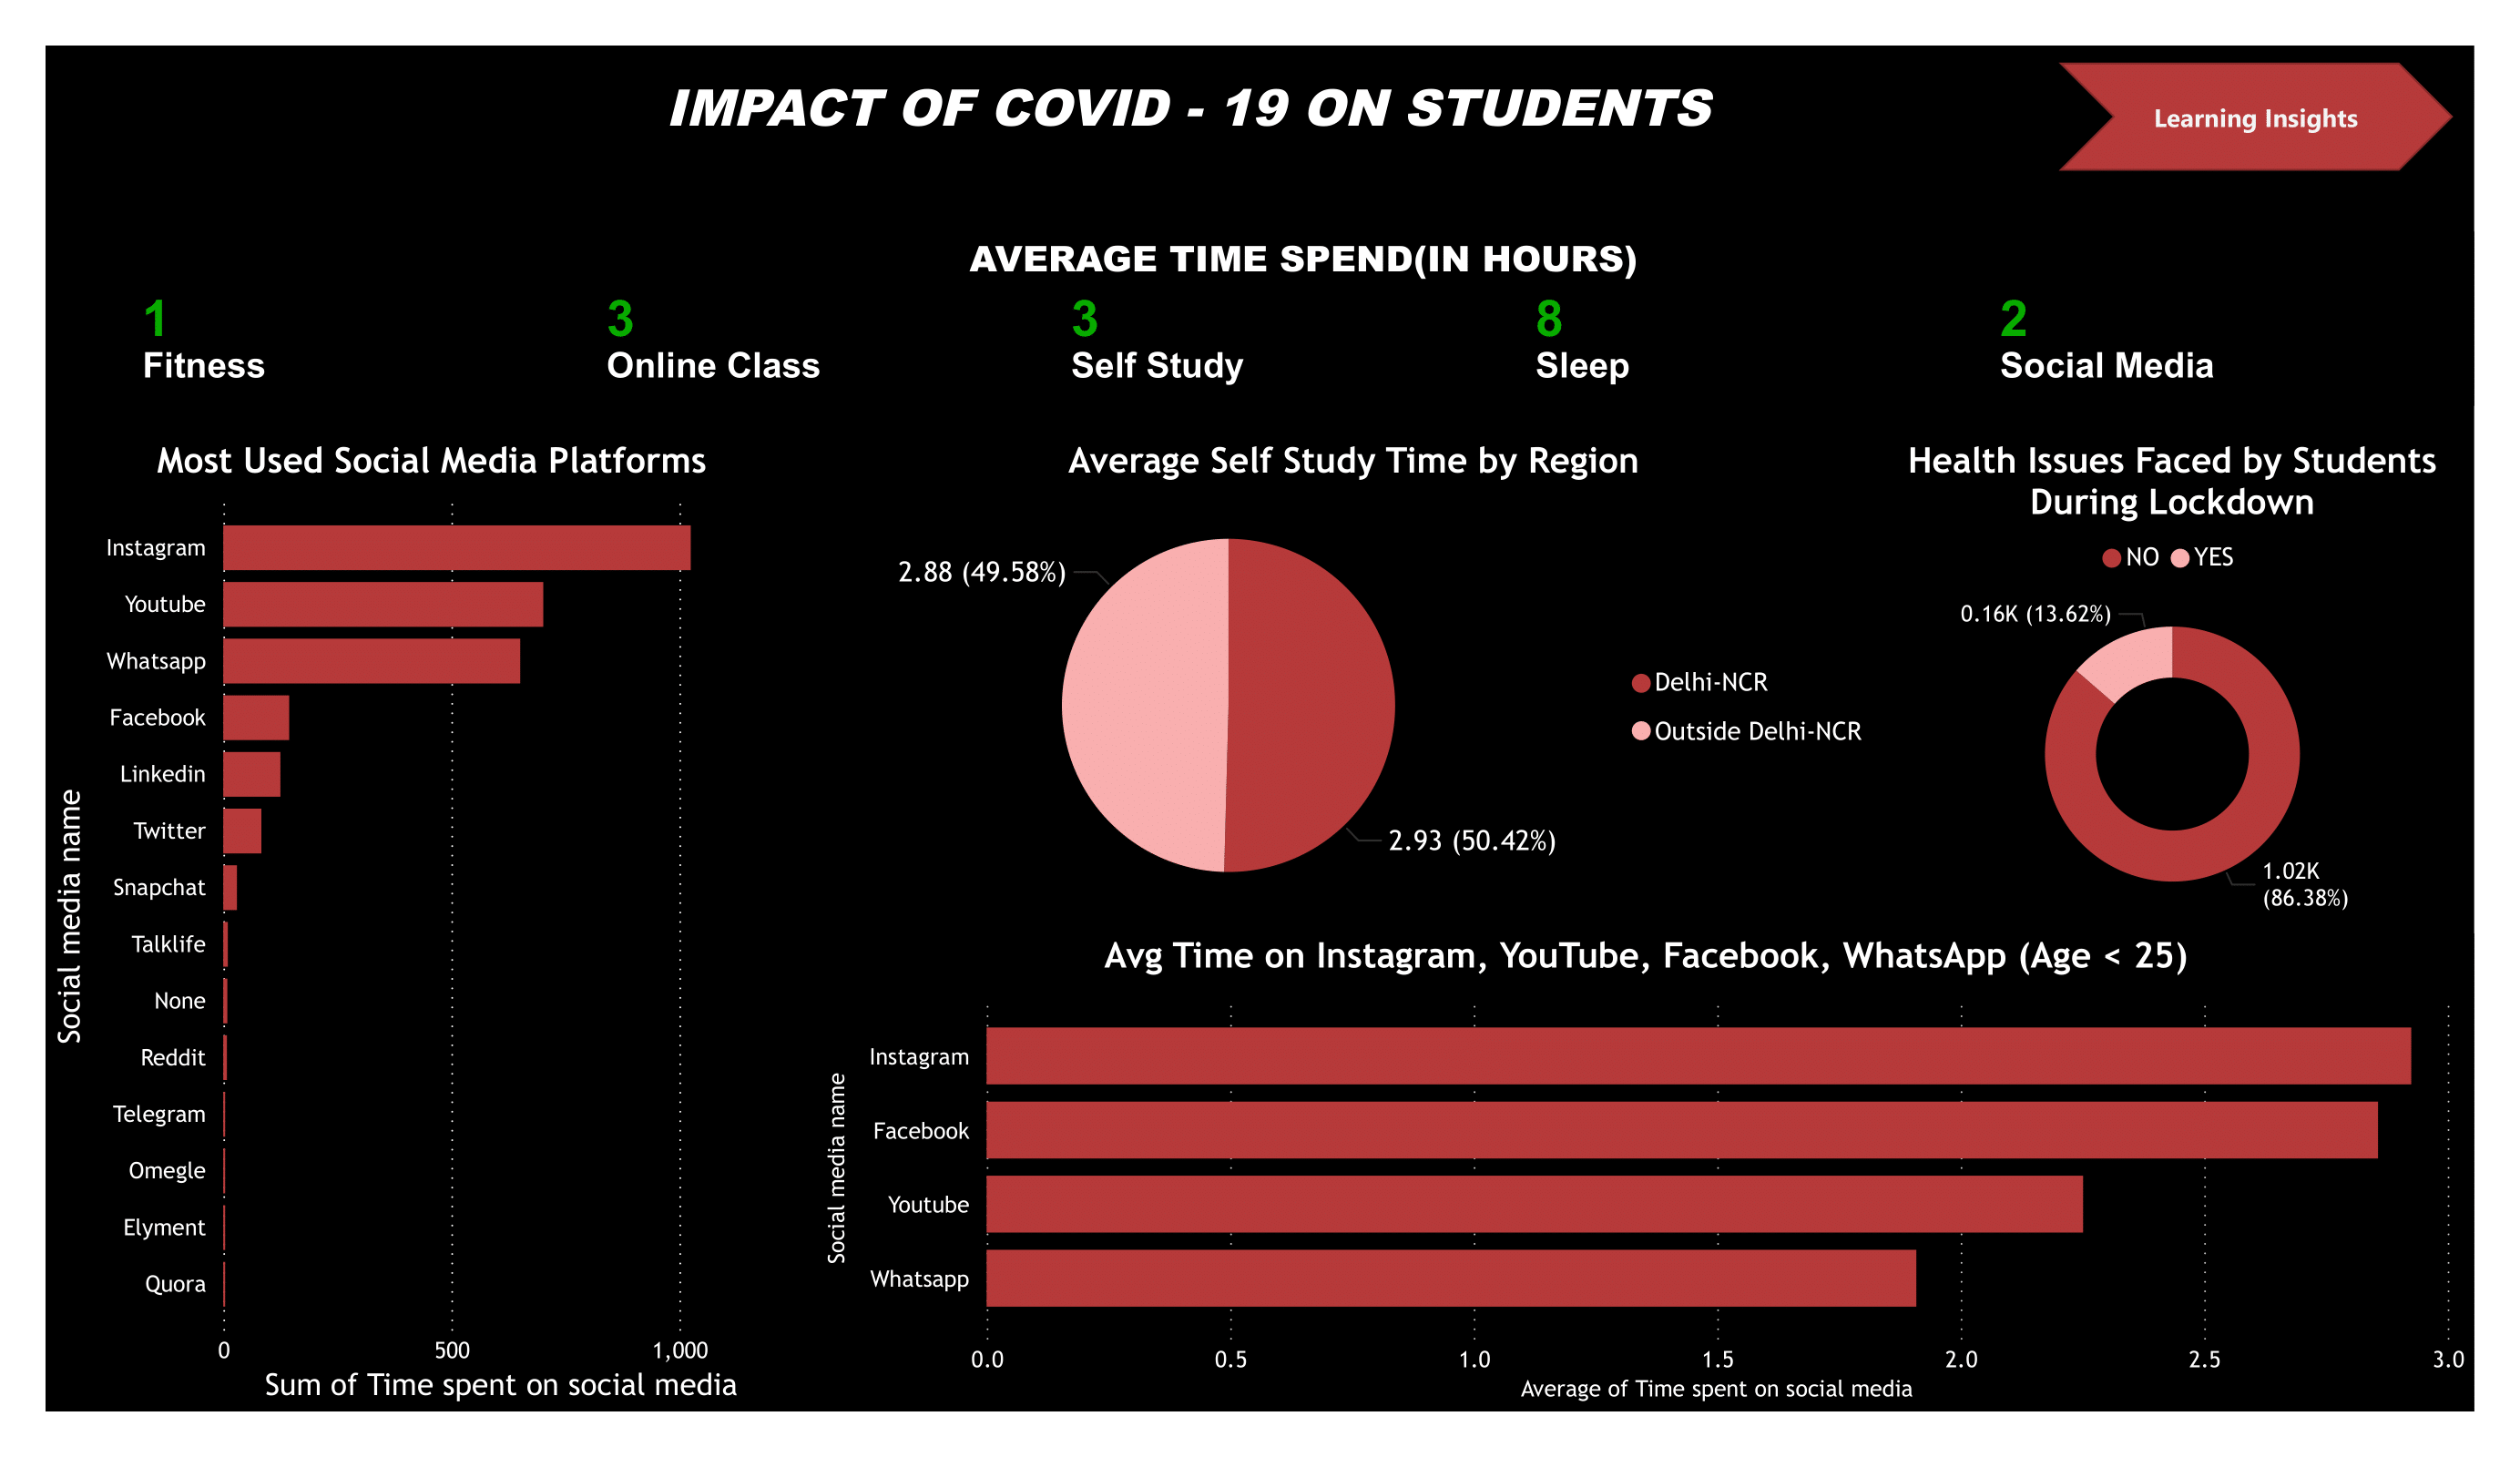

Layout of this report page (visuals, bound fields, positions):
{"tool":"powerbi","page":{"name":"Lifestyle Overview","canvas":[1280,720],"ordinal":0},"visuals":[{"type":"textbox","box":[322,8,636,62],"z":0},{"type":"multiRowCard","title":"AVERAGE TIME SPEND(IN HOURS)","fields":{"Values":["Impact_of_C19_on_Students (2).Time spent on fitness","Impact_of_C19_on_Students (2).Time spent on Online Class","Impact_of_C19_on_Students (2).Time spent on self study","Impact_of_C19_on_Students (2).Time spent on sleep","Impact_of_C19_on_Students (2).Time spent on social media"]},"box":[46,98,1234,92],"z":1000},{"type":"pieChart","title":"Average Self Study Time by Region","fields":{"Category":["Impact_of_C19_on_Students (2).Region of residence"],"Y":["Impact_of_C19_on_Students (2).Time spent on self study"]},"box":[406.7,206.7,565,261.7],"z":2000},{"type":"clusteredBarChart","title":"Most Used Social Media Platforms","fields":{"Category":["Impact_of_C19_on_Students (2).Social media name"],"Y":["Impact_of_C19_on_Students_Or.Time spent on social media"]},"box":[0,206.7,406.7,513.3],"z":3000},{"type":"clusteredBarChart","title":"Avg Time on Instagram, YouTube, Facebook, WhatsApp (Age < 25)","fields":{"Y":["Impact_of_C19_on_Students (2).Time spent on social media"],"Category":["Impact_of_C19_on_Students (2).Social media name"]},"box":[406.7,468.3,873.3,251.7],"z":4000},{"type":"shape","box":[1061.2,8.8,207.5,57.5],"z":5000},{"type":"donutChart","title":"Health Issues Faced by Students During Lockdown","fields":{"Y":["Impact_of_C19_on_Students_Or.Student ID"],"Category":["Impact_of_C19_on_Students_Or.Health issue during lockdown"]},"box":[971.7,206.7,298.3,261.7],"z":6000}]}

Visuals, with their boxes on the page's 1280x720 design canvas (x1, y1, x2, y2). These are canvas units, not pixel positions in the 2520x1457 screenshot, which may show the page scaled, cropped or inside an application window:
textbox: (322, 8, 958, 70)
"AVERAGE TIME SPEND(IN HOURS)" multiRowCard: (46, 98, 1280, 190)
"Average Self Study Time by Region" pieChart: (407, 207, 972, 468)
"Most Used Social Media Platforms" clusteredBarChart: (0, 207, 407, 720)
"Avg Time on Instagram, YouTube, Facebook, WhatsApp (Age < 25)" clusteredBarChart: (407, 468, 1280, 720)
shape: (1061, 9, 1269, 66)
"Health Issues Faced by Students During Lockdown" donutChart: (972, 207, 1270, 468)
